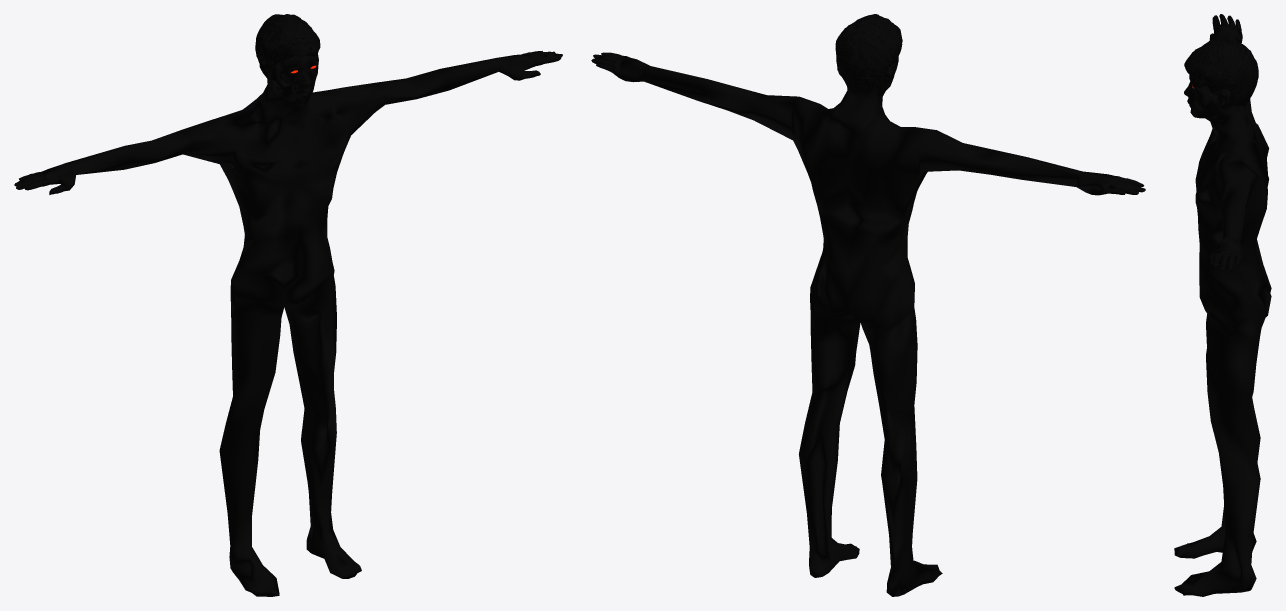
Rendered from paradox0.fbx.
3 renders of one model, left to right at view 1: azimuth 30°, elevation 25°; view 2: azimuth 150°, elevation 25°; view 3: azimuth 270°, elevation 25°, orthographic. The views are drawn at different scales.
Parts seen in each view (by area): view 1: male1591Mesh, short02Mesh; view 2: male1591Mesh, short02Mesh; view 3: male1591Mesh, short02Mesh.
Boxes of the visible parts, x1,y1,x2,y2 form: male1591Mesh: [14, 51, 562, 596]; short02Mesh: [255, 14, 320, 69]; male1591Mesh: [591, 52, 1145, 596]; short02Mesh: [835, 14, 902, 91]; male1591Mesh: [1174, 14, 1271, 596]; short02Mesh: [1184, 39, 1258, 106].
Size of the model in its own units: 1817 by 1758 by 292.
3 materials, 1 textured.
